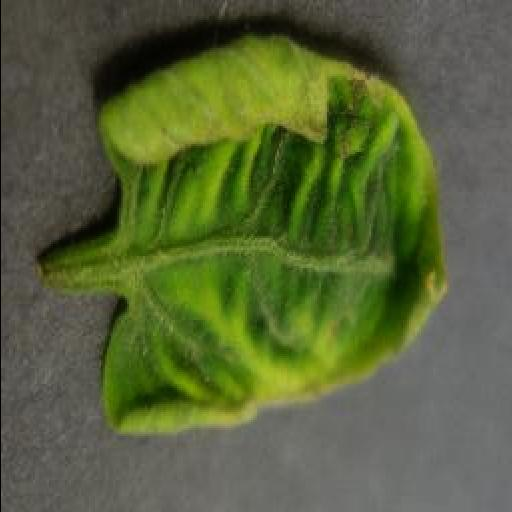disease_tomato: (95, 32, 449, 438)
